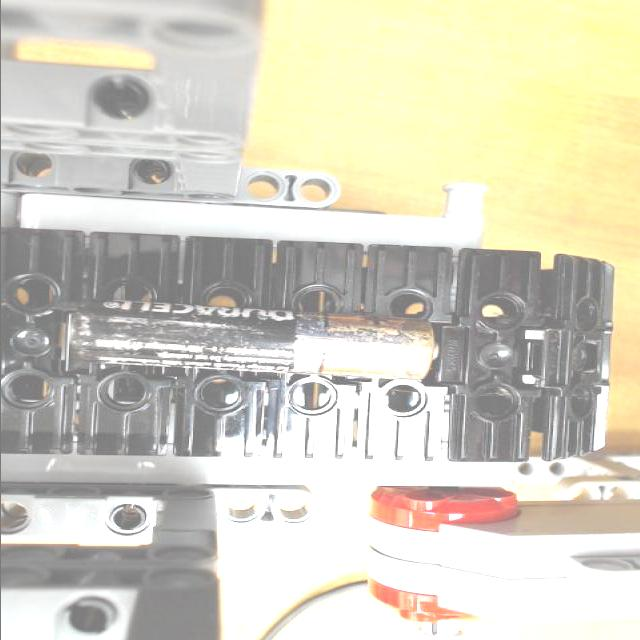AAA: (63, 306, 445, 381)
